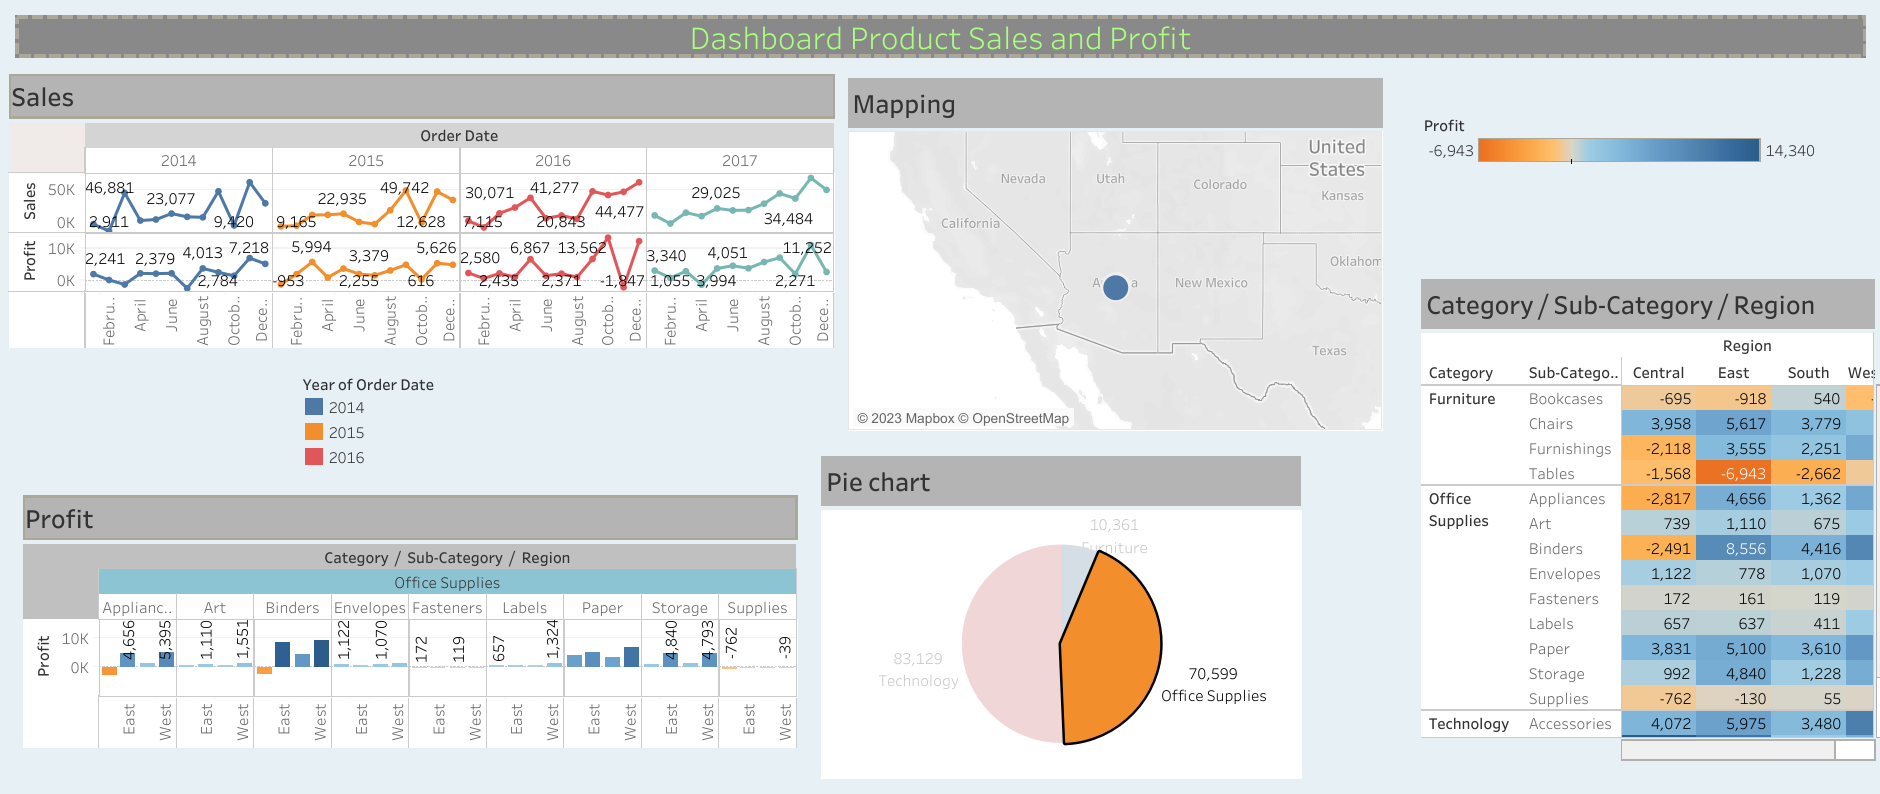

The page's visual inventory and layout, read from the dashboard file:
{"tool":"tableau","page":{"name":"Dashboard Product Sales and Profit","canvas":[1000,1000],"units":"permille","ordinal":0},"visuals":[{"type":"title","box":[4.9,9.3,990.1,58.1]},{"type":"worksheet","title":"Sales","mark":"Automatic","rows":["Sales","Profit"],"cols":["Order Date","Order Date"],"box":[4.9,93,438.9,347.7]},{"type":"worksheet","title":"Mapping","mark":"Automatic","box":[450.6,97.7,283.9,444.2]},{"type":"legend","title":"Category / Sub-Category / Region","param":"[federated.0f1v3mx1i4zc0u148qwcr1feptlt].[sum:Profit:qk]","box":[756.8,136.1,211.1,104.7]},{"type":"legend","title":"Sales","param":"[federated.0f1v3mx1i4zc0u148qwcr1feptlt].[yr:Order Date:ok]","box":[159.9,464.9,72.9,126]},{"type":"worksheet","title":"Pie chart","mark":"Pie","box":[436.4,573.3,255.6,404.7]},{"type":"worksheet","title":"Profit","mark":"Automatic","rows":["Profit"],"cols":["Category","Sub-Category","Region"],"box":[11.7,622.1,412.4,320.9]}]}

Visuals, with their boxes on the dashboard's canvas, which has no fixed pixel size, in thousandths of its width and height (x1, y1, x2, y2). These are canvas units, not pixel positions in the 1880x794 screenshot, which may show the page scaled, cropped or inside an application window:
title: bbox(5, 9, 995, 67)
"Sales" worksheet: bbox(5, 93, 444, 441)
"Mapping" worksheet: bbox(451, 98, 734, 542)
"Category / Sub-Category / Region" legend: bbox(757, 136, 968, 241)
"Sales" legend: bbox(160, 465, 233, 591)
"Pie chart" worksheet (Pie marks): bbox(436, 573, 692, 978)
"Profit" worksheet: bbox(12, 622, 424, 943)
